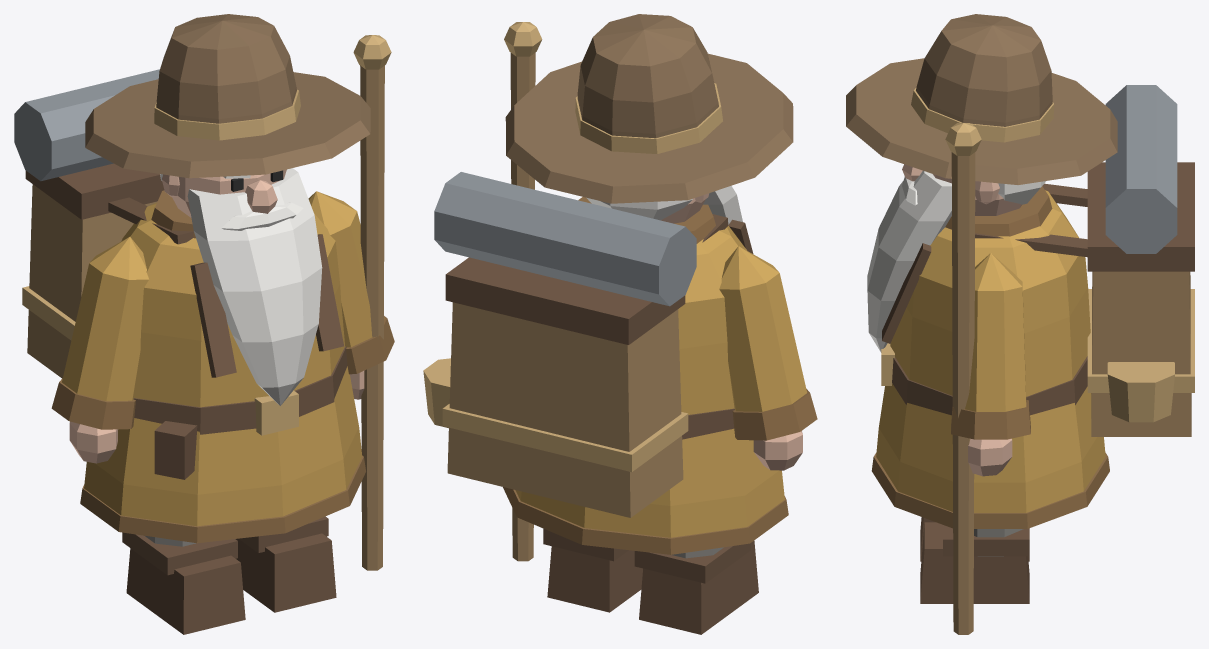
File: cr-trader.glb
3 views of the same model, side by side, from view 1: azimuth 30°, elevation 25°; view 2: azimuth 150°, elevation 25°; view 3: azimuth 270°, elevation 25° (orthographic). The views are drawn at different scales.
Parts seen in each view (by area): view 1: coat, beard, hat_brim, hat_crown, staff, arm_l, pack, bedroll, boot_l, boot_r, coat_hem, arm_r (+19 smaller); view 2: pack, hat_brim, bedroll, coat, hat_crown, pack_lid, arm_l, boot_l, pack_band, coat_hem, boot_r, hat_band (+11 smaller); view 3: coat, hat_brim, hat_crown, pack, bedroll, staff, arm_r, beard, pack_lid, boot_r, coat_hem, pack_pot (+14 smaller).
Part boxes in pixels (x1,y1,x2,y2): coat: (84, 202, 362, 526); beard: (187, 168, 322, 405); hat_brim: (85, 72, 370, 178); hat_crown: (156, 14, 296, 123); staff: (360, 65, 384, 570); arm_l: (62, 237, 148, 401); pack: (27, 184, 157, 378); bedroll: (14, 69, 159, 181); boot_l: (126, 548, 245, 634); boot_r: (235, 533, 336, 612); coat_hem: (80, 456, 365, 543); arm_r: (308, 191, 384, 347); pack: (447, 302, 683, 517); hat_brim: (505, 53, 793, 203); bedroll: (434, 172, 696, 306); coat: (515, 225, 784, 537); hat_crown: (577, 14, 718, 138); pack_lid: (445, 257, 685, 344); arm_l: (719, 246, 807, 411); boot_l: (639, 541, 758, 634); pack_band: (442, 404, 688, 472); coat_hem: (503, 487, 788, 554); boot_r: (547, 546, 642, 612); hat_band: (575, 83, 722, 153); coat: (876, 190, 1105, 512); hat_brim: (846, 58, 1117, 184); hat_crown: (916, 14, 1052, 126); pack: (1091, 271, 1191, 436); bedroll: (1105, 85, 1177, 253); staff: (951, 152, 975, 634); arm_r: (965, 253, 1026, 411); beard: (867, 170, 951, 352); pack_lid: (1087, 162, 1194, 271); boot_r: (920, 522, 1029, 603); coat_hem: (871, 452, 1109, 528); pack_pot: (1107, 362, 1174, 422).
Size of what is drawn, in the model's own units: 0.7889 by 1.31 by 0.7653.
